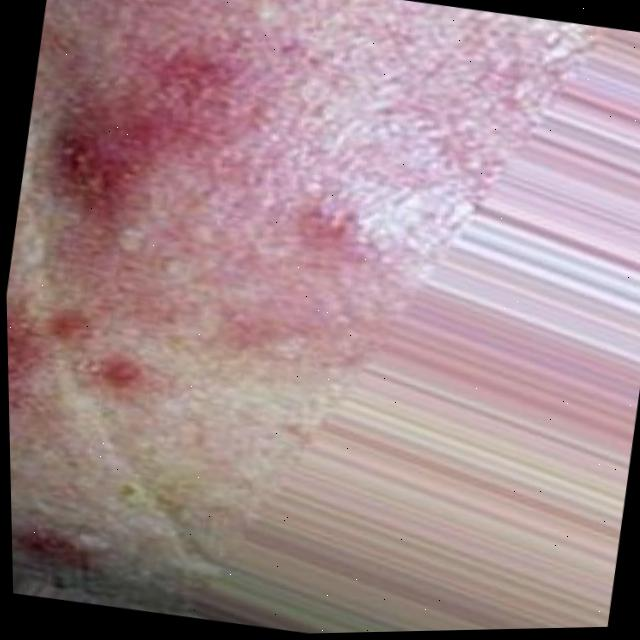Rosacea: (51, 30, 223, 262), (7, 321, 35, 404)
